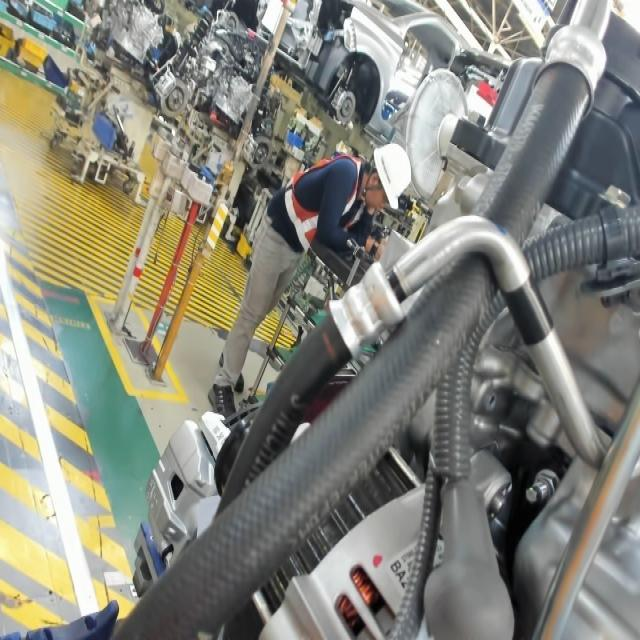Alternator-BA2: (384, 551, 414, 595)
Hose Discharge-HT: (497, 266, 560, 355)
